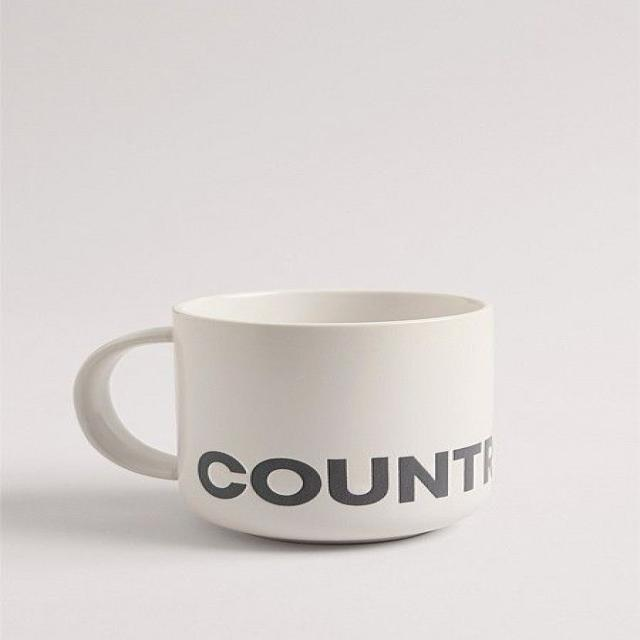glass cup: (75, 290, 496, 546)
